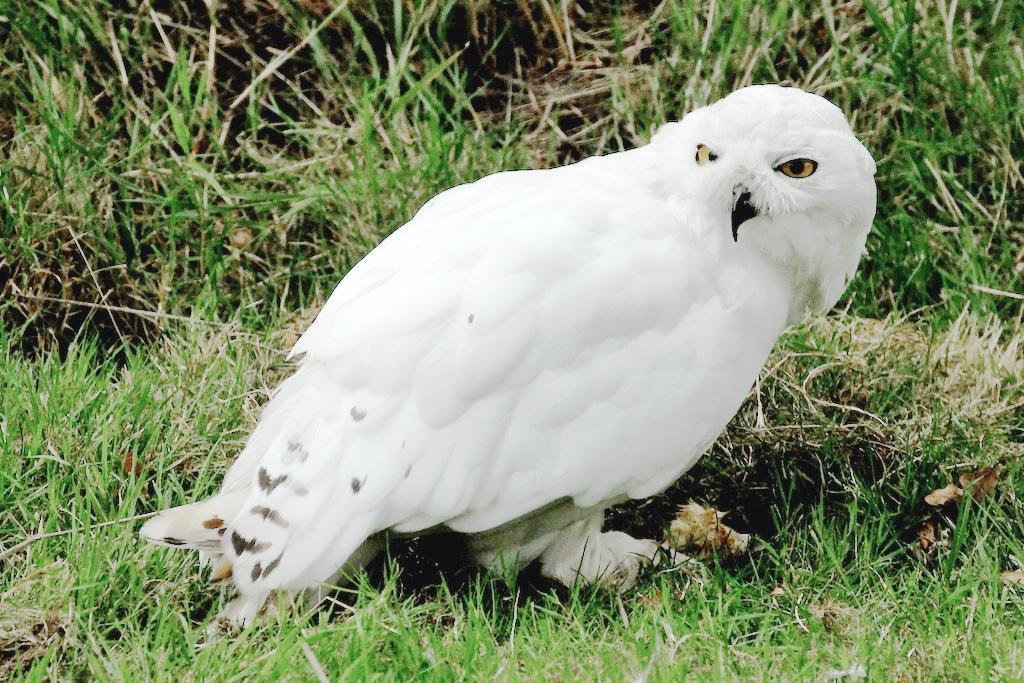Owl: (108, 85, 896, 629)
